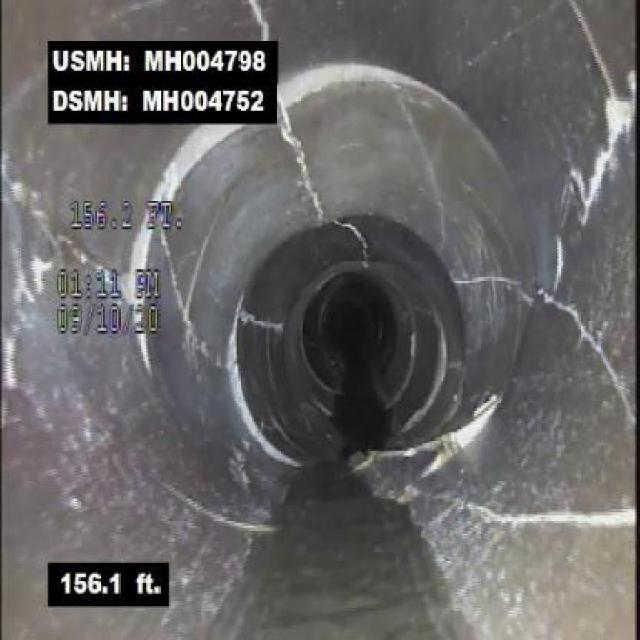Buckling: (354, 397, 503, 483)
Crack: (550, 84, 638, 278), (540, 279, 631, 406), (166, 224, 222, 364), (514, 495, 638, 540), (283, 108, 328, 223), (570, 3, 612, 77), (246, 0, 272, 38)
Joint offset: (286, 57, 377, 101)
